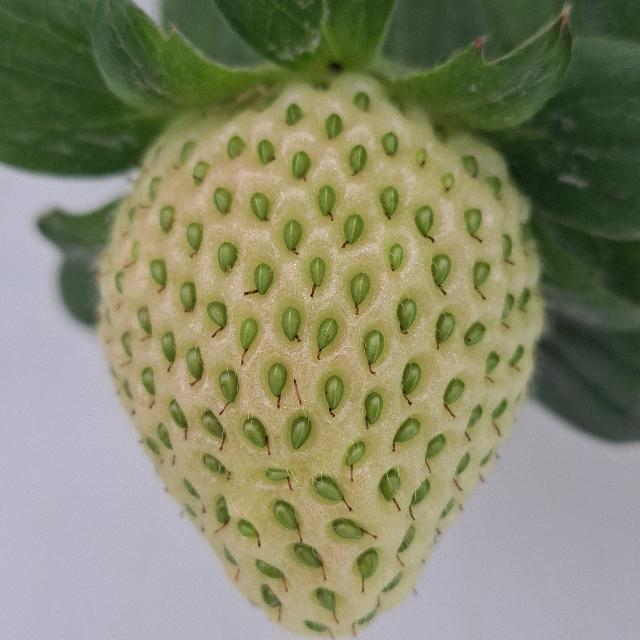Health_25: (97, 72, 543, 640)
